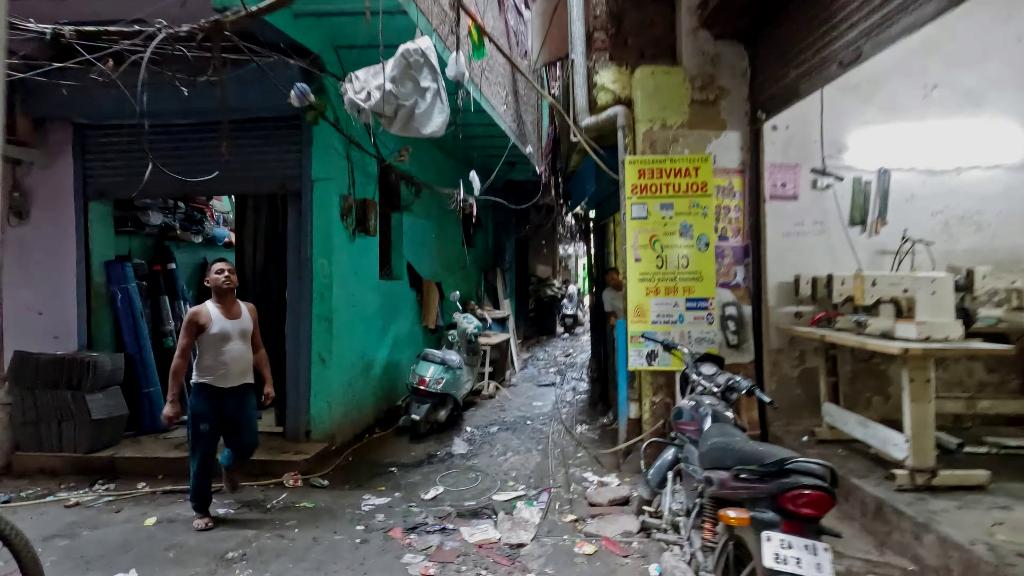garbage: (495, 481, 552, 551), (575, 533, 627, 558), (459, 520, 501, 545), (581, 467, 623, 490), (417, 476, 444, 508), (445, 435, 469, 465), (281, 471, 327, 486), (361, 496, 391, 513)
